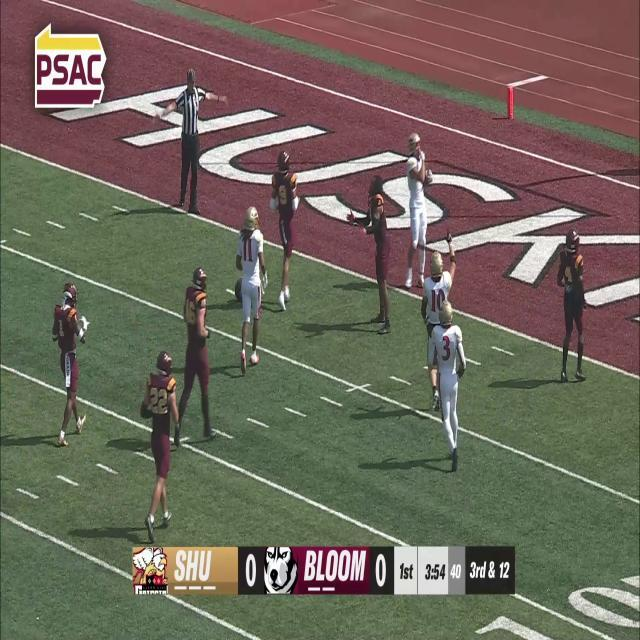football: (423, 168, 432, 188)
